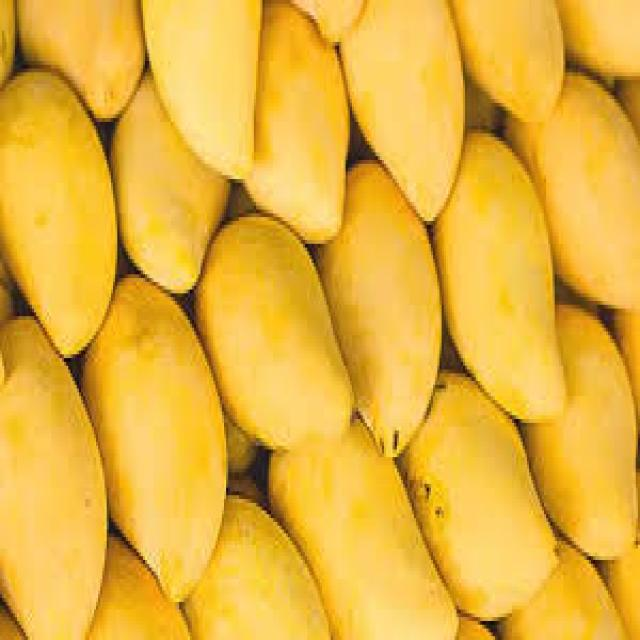Mango: (440, 144, 583, 448), (312, 193, 450, 480), (197, 222, 355, 468), (404, 391, 565, 626), (0, 334, 117, 640), (285, 419, 441, 640), (103, 317, 227, 583), (0, 84, 122, 354), (503, 69, 640, 305), (525, 316, 640, 564), (345, 0, 470, 223), (254, 29, 369, 261), (154, 0, 269, 187), (124, 103, 220, 297), (452, 3, 577, 145), (18, 0, 151, 114), (211, 531, 320, 640)
